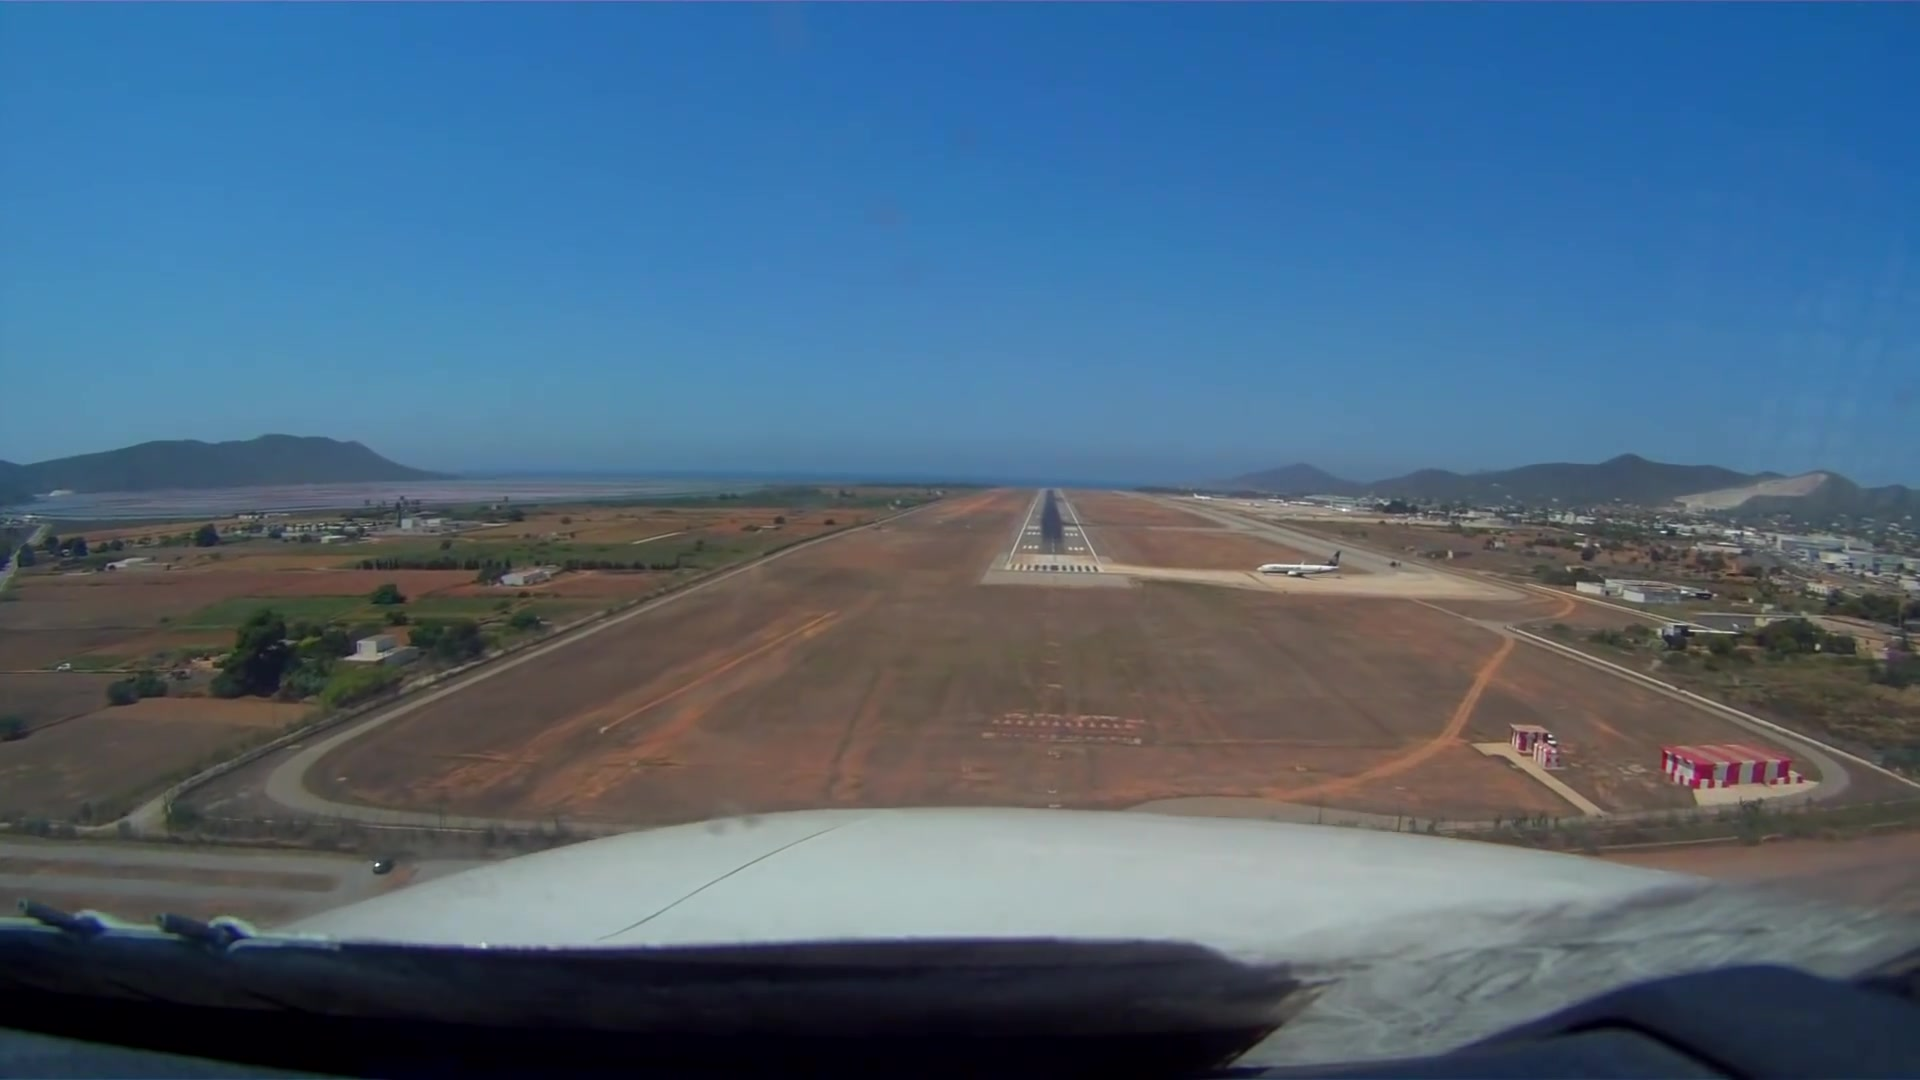entrance: (1009, 560, 1098, 575)
runway: (1004, 485, 1102, 576)
